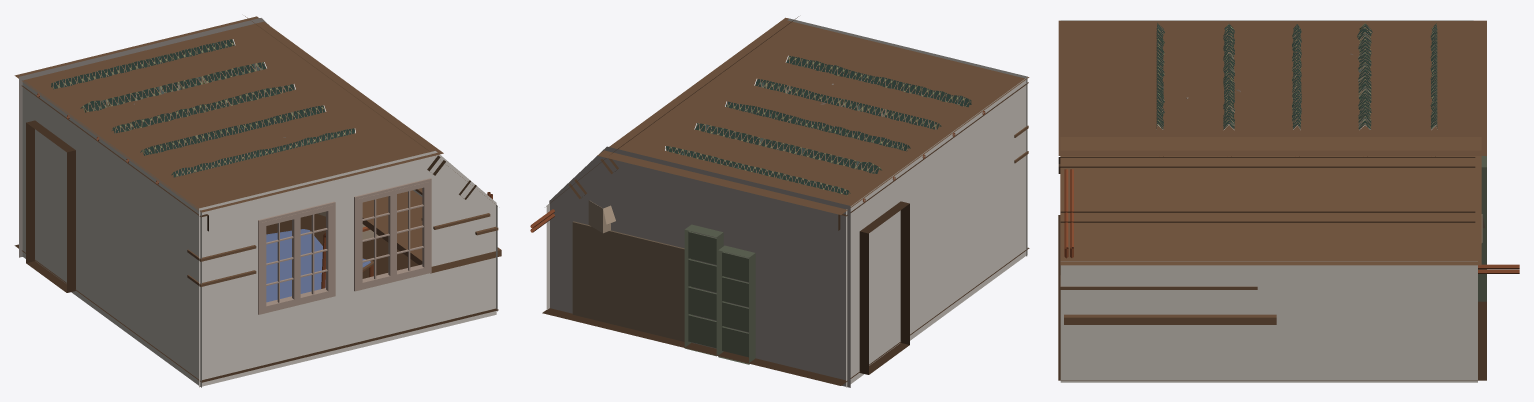
File: ROOM.fbx
3 renders of one model, left to right at view 1: azimuth 30°, elevation 25°; view 2: azimuth 150°, elevation 25°; view 3: azimuth 270°, elevation 25°, orthographic. The views are drawn at different scales.
Parts seen in each view (by area): view 1: Ceiling, WindowWall, LongWall, pPlane1, Door, Floor, pCube15, Carpet, pCube4 (×4), ShortWall, pCube13 (×2); view 2: Ceiling, ShortWall, LongWall, pCube24, pPlane1, pCube23 (×8), Door, pCube22 (×2), Floor, WindowWall, Box3; view 3: Ceiling2, Ceiling, LowWall, pPlane1, pCube15, pCube33, Floor, pCube31, pCube22, pCube28, LongWall, pCylinder24.
Boxes of the visible parts, x1=… form: Ceiling: x1=14, y1=16, x2=443, y2=212; WindowWall: x1=199, y1=151, x2=496, y2=387; LongWall: x1=22, y1=80, x2=201, y2=387; pPlane1: x1=51, y1=39, x2=355, y2=177; Door: x1=26, y1=120, x2=75, y2=292; Floor: x1=14, y1=213, x2=498, y2=382; pCube15: x1=362, y1=190, x2=501, y2=273; Carpet: x1=266, y1=229, x2=325, y2=302; pCube4 (×4): x1=292, y1=186, x2=428, y2=299; ShortWall: x1=19, y1=18, x2=269, y2=257; pCube13 (×2): x1=258, y1=201, x2=358, y2=309; Ceiling: x1=597, y1=17, x2=1029, y2=214; ShortWall: x1=549, y1=146, x2=850, y2=387; LongWall: x1=846, y1=77, x2=1027, y2=387; pCube24: x1=572, y1=221, x2=684, y2=341; pPlane1: x1=665, y1=55, x2=971, y2=195; pCube23 (×8): x1=688, y1=231, x2=748, y2=357; Door: x1=859, y1=201, x2=909, y2=374; pCube22 (×2): x1=684, y1=224, x2=755, y2=364; Floor: x1=542, y1=247, x2=1029, y2=385; WindowWall: x1=787, y1=18, x2=1027, y2=256; Box3: x1=588, y1=200, x2=615, y2=233; Ceiling2: x1=1060, y1=137, x2=1481, y2=265; Ceiling: x1=1058, y1=20, x2=1486, y2=155; LowWall: x1=1060, y1=261, x2=1477, y2=382; pPlane1: x1=1156, y1=23, x2=1437, y2=129; pCube15: x1=1064, y1=314, x2=1276, y2=324; pCube33: x1=1060, y1=211, x2=1475, y2=222; Floor: x1=1058, y1=215, x2=1486, y2=380; pCube31: x1=1058, y1=157, x2=1475, y2=173; pCube22: x1=1478, y1=156, x2=1486, y2=301; pCube28: x1=1060, y1=275, x2=1257, y2=289; LongWall: x1=1060, y1=20, x2=1473, y2=20; pCylinder24: x1=1064, y1=169, x2=1068, y2=255.
Size of the model in its own units: 5.76 by 3.28 by 6.49.
